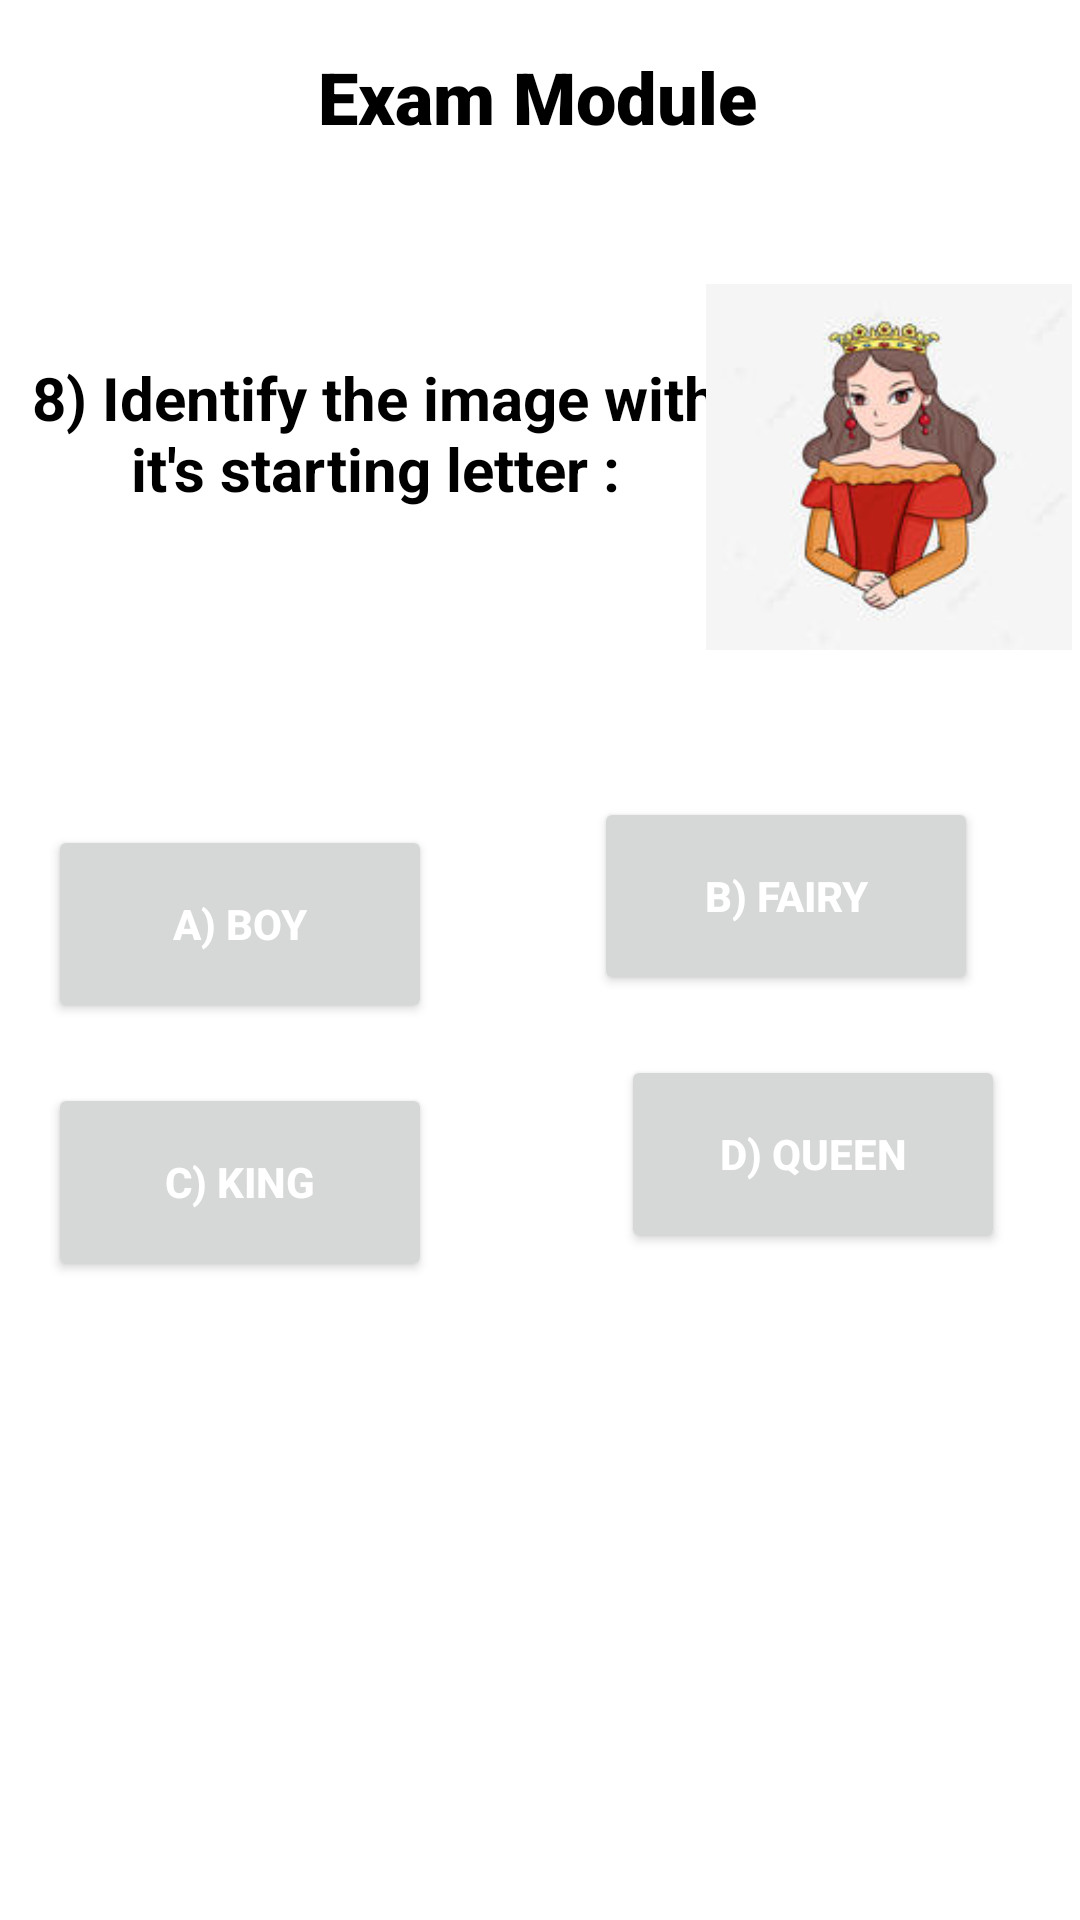

Screen size 1080w x 1920h. Icon name, then its box in pixels as (x1, y1, x2, y2):
queen: (794, 317, 998, 615)
